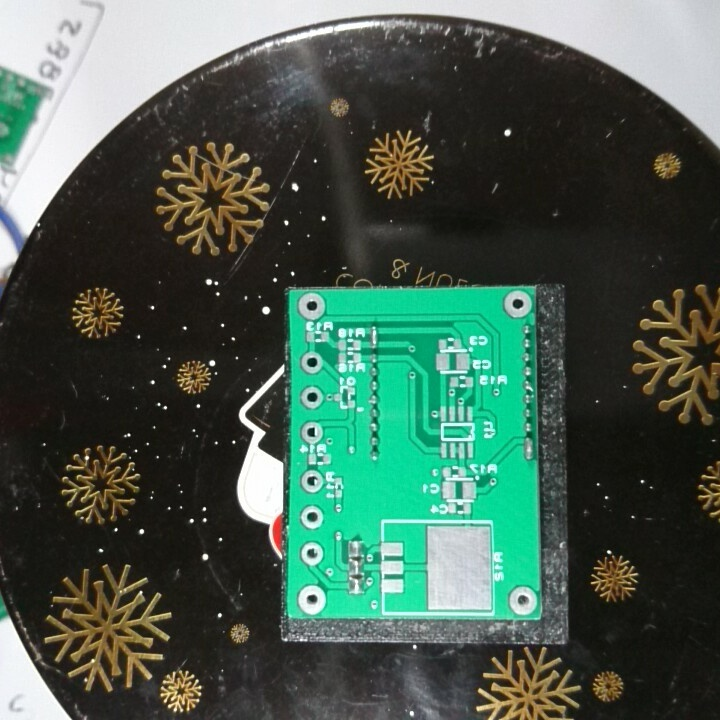F: (294, 584, 331, 616), (501, 288, 534, 321), (295, 289, 328, 321), (507, 584, 539, 616), (298, 539, 325, 569), (298, 502, 324, 532), (298, 384, 325, 410), (299, 349, 324, 375), (299, 419, 325, 444), (299, 466, 324, 492)
P: (367, 323, 384, 349), (521, 436, 535, 461)
